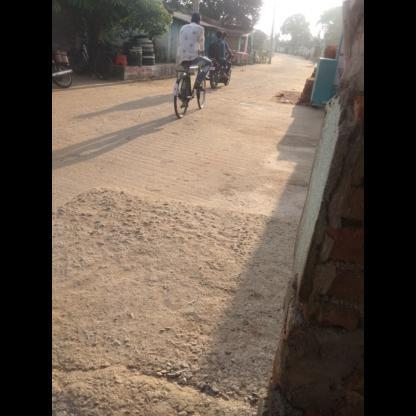Bicycle: (156, 62, 212, 121)
